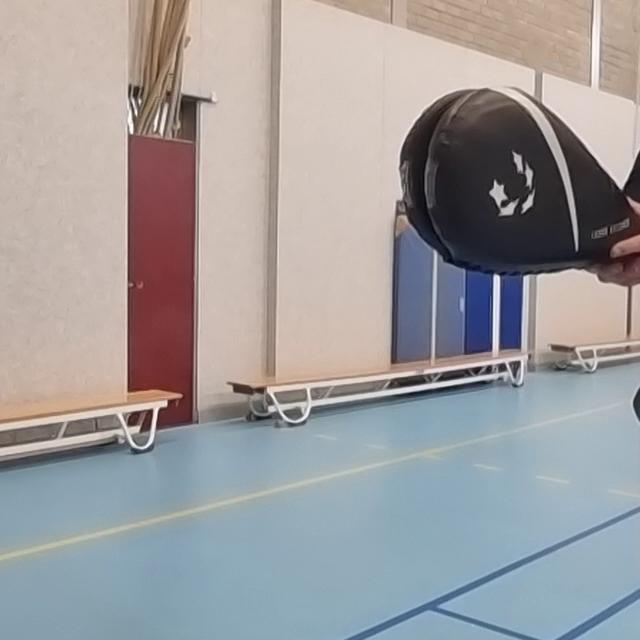paddle: (393, 80, 640, 280)
